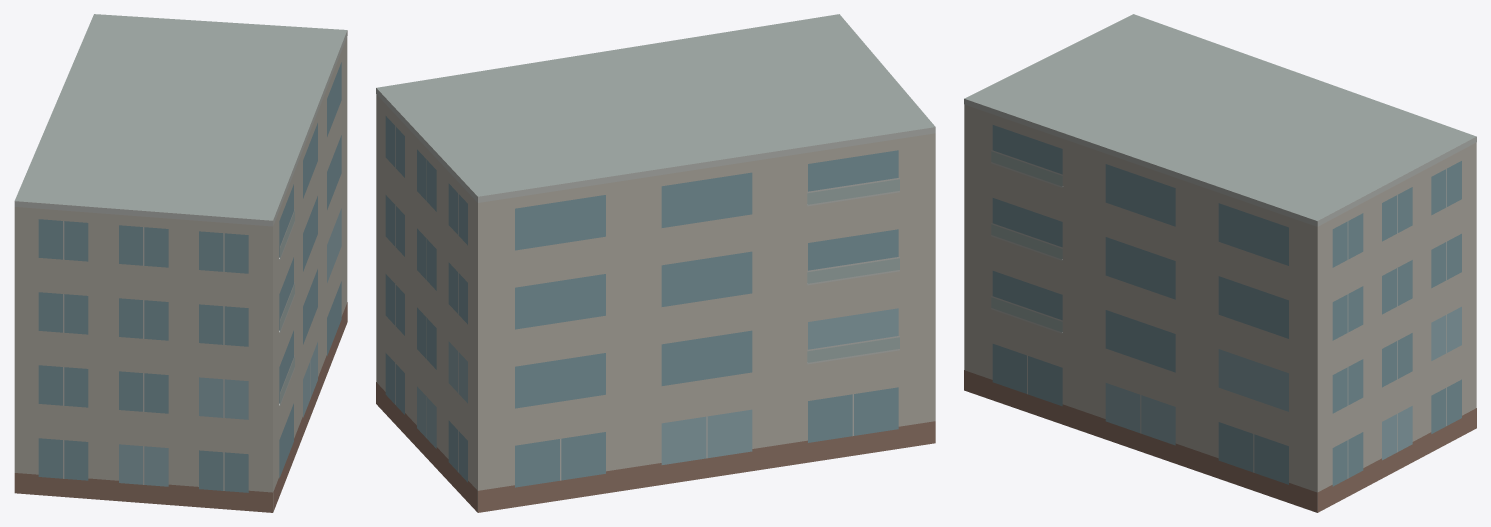
The model's file is survey-upis-32904097.glb.
3 views of the same model, side by side, from view 1: azimuth 30°, elevation 25°; view 2: azimuth 150°, elevation 25°; view 3: azimuth 270°, elevation 25° (orthographic). The views are drawn at different scales.
Parts seen in each view (by area): view 1: survey-upis-32904097.tmp; view 2: survey-upis-32904097.tmp; view 3: survey-upis-32904097.tmp.
Part boxes in pixels (box(x1,y1,x2,y2)): survey-upis-32904097.tmp: box(14, 14, 347, 512); survey-upis-32904097.tmp: box(376, 14, 935, 512); survey-upis-32904097.tmp: box(964, 14, 1476, 512).
Size of the model in its own units: 18.89 by 12.4 by 19.75.
